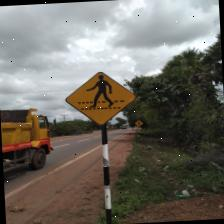yellowboard: (63, 68, 138, 127)
